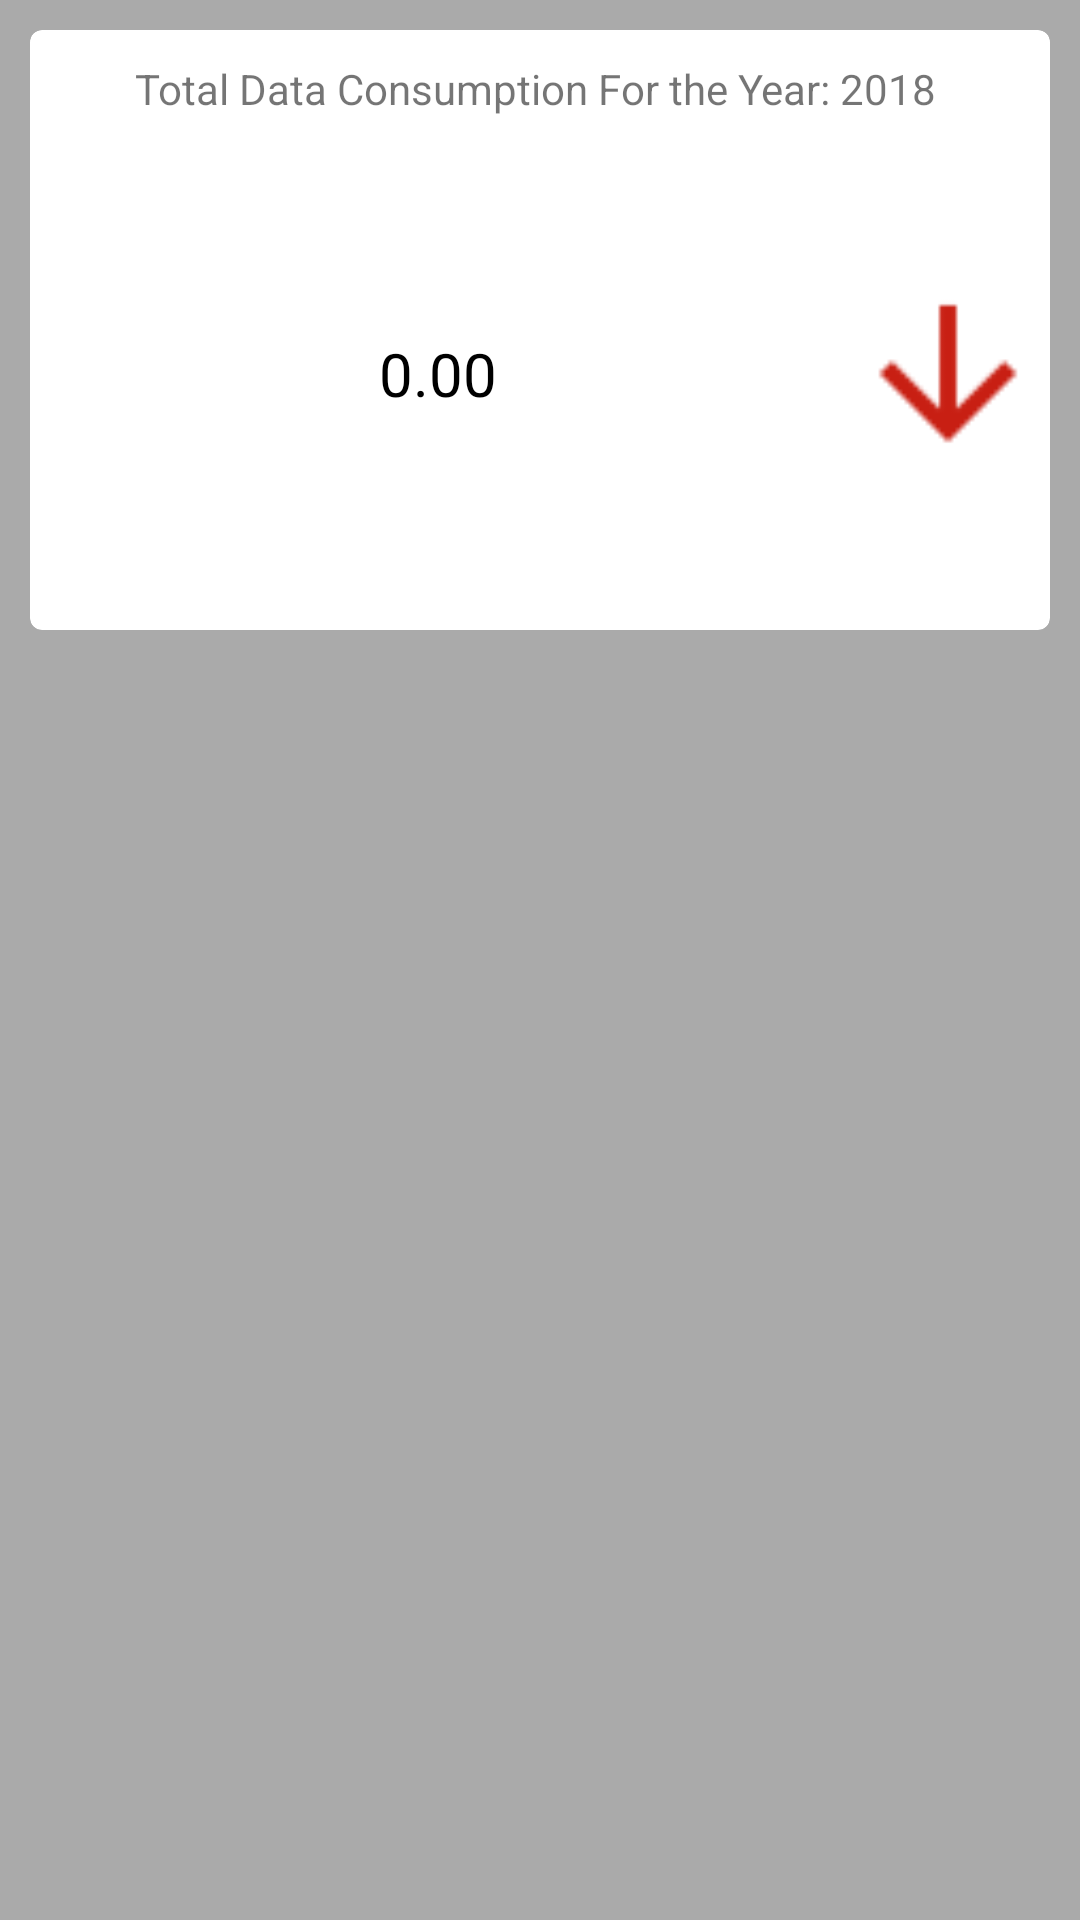

Icon click points for this 1080×1920 phone screenshot, format point (x, y):
arrow downward: point (948, 373)
